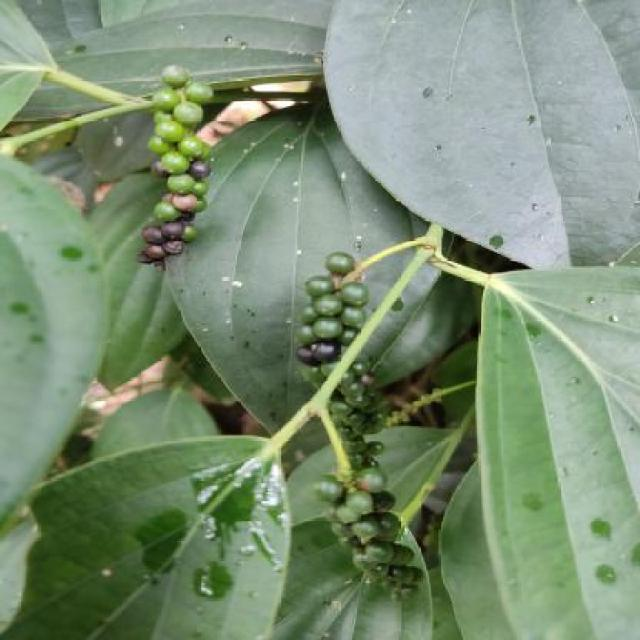UNRIPE: (302, 242, 416, 593), (148, 56, 217, 262)
